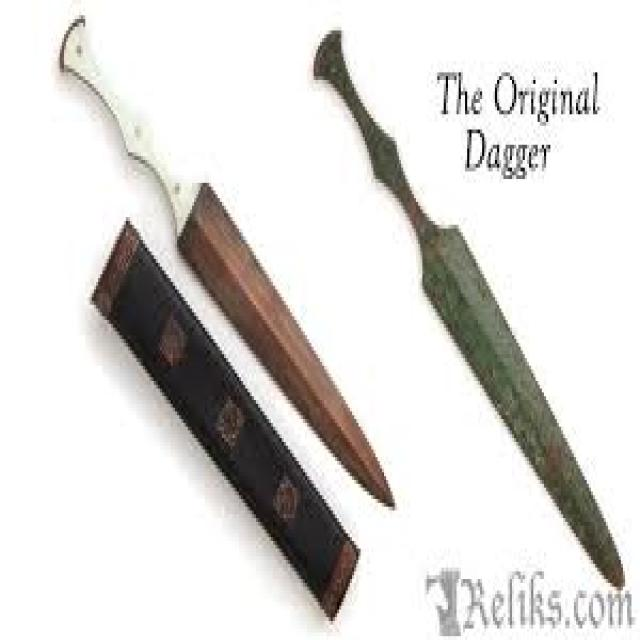Gun: (298, 2, 630, 600), (48, 13, 406, 526)
